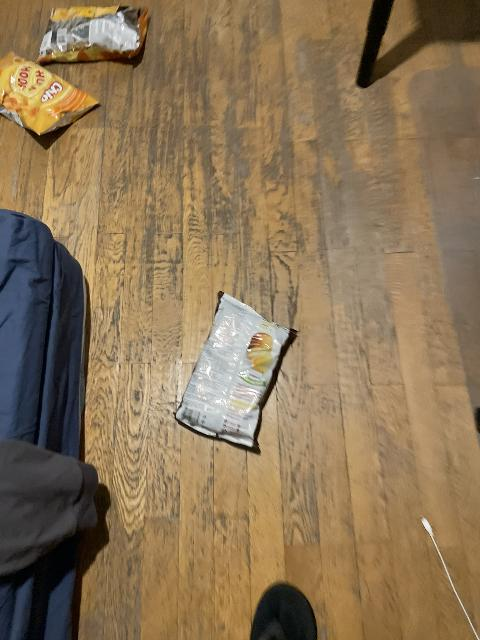Chio Cascaval 125g: (35, 5, 151, 66)
Chio Hula Hoops Cheese 70g: (0, 51, 102, 134)
Lays Beef Grilled Ribs 125g: (172, 290, 299, 448)
